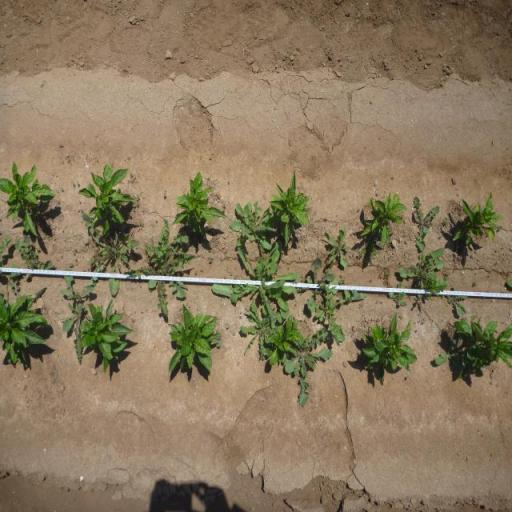plant: (360, 311, 420, 388), (75, 161, 136, 232), (164, 302, 219, 380), (0, 160, 56, 236), (80, 297, 133, 373), (453, 316, 512, 382), (173, 169, 226, 242), (0, 293, 49, 363), (268, 169, 311, 247), (451, 190, 503, 251), (360, 191, 407, 247), (266, 312, 304, 366)
weed: (123, 218, 196, 316), (208, 239, 301, 313), (80, 212, 140, 298), (305, 279, 368, 346), (284, 326, 334, 408), (58, 265, 95, 365), (239, 297, 290, 361), (396, 247, 450, 304), (229, 198, 277, 256), (11, 234, 55, 279), (296, 255, 337, 298), (410, 194, 440, 251), (323, 226, 352, 268), (433, 338, 461, 368), (387, 279, 408, 309), (356, 236, 379, 260), (448, 286, 466, 315), (382, 270, 394, 288), (418, 252, 426, 266), (444, 269, 451, 280), (442, 216, 450, 224), (339, 277, 346, 285), (132, 202, 140, 208), (378, 273, 383, 280), (323, 216, 328, 222), (140, 220, 144, 227), (472, 281, 476, 288), (208, 258, 212, 264), (226, 324, 230, 330), (70, 262, 74, 268), (234, 274, 237, 279), (195, 270, 198, 274), (164, 192, 166, 198)
